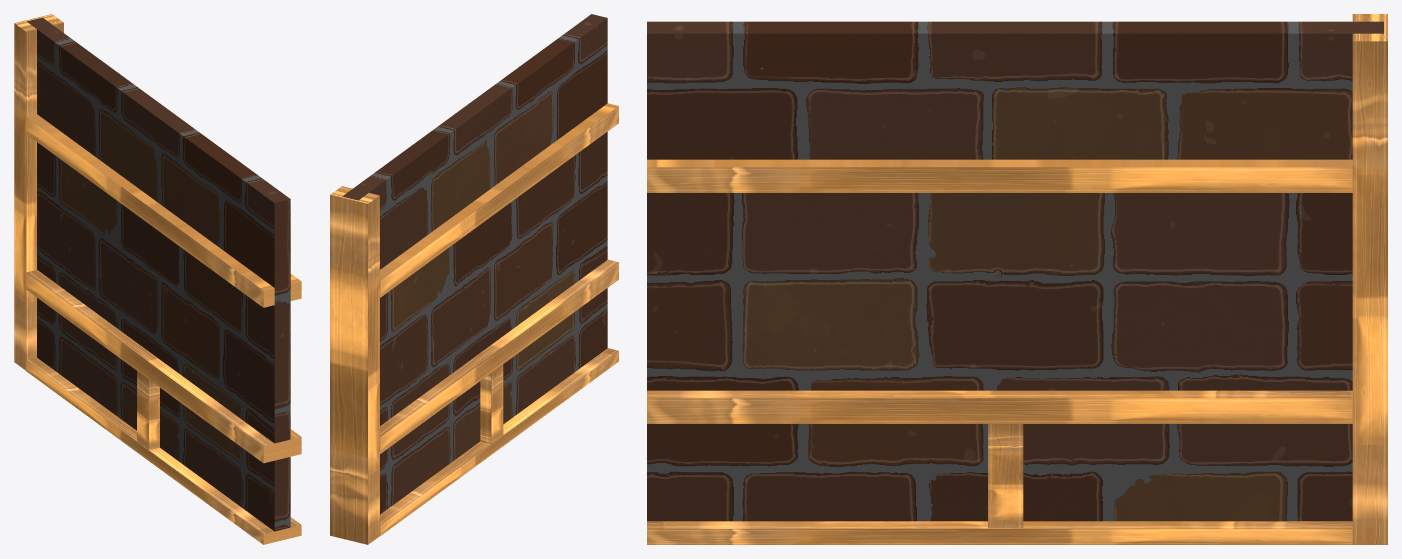
Rendered from SM_Large_Wall_07.fbx.
The picture shows the model from 3 angles, left to right: view 1: azimuth 30°, elevation 25°; view 2: azimuth 150°, elevation 25°; view 3: azimuth 270°, elevation 25°; orthographic projection. The views are drawn at different scales.
Parts seen in each view (by area): view 1: SM_Large_Wall_07; view 2: SM_Large_Wall_07; view 3: SM_Large_Wall_07.
Part boxes in pixels (left/top/right/bottom): SM_Large_Wall_07: left=14, top=14, right=301, bottom=544; SM_Large_Wall_07: left=330, top=14, right=618, bottom=544; SM_Large_Wall_07: left=647, top=14, right=1387, bottom=544.
Size of the model in its own units: 35.24 by 300 by 400.
